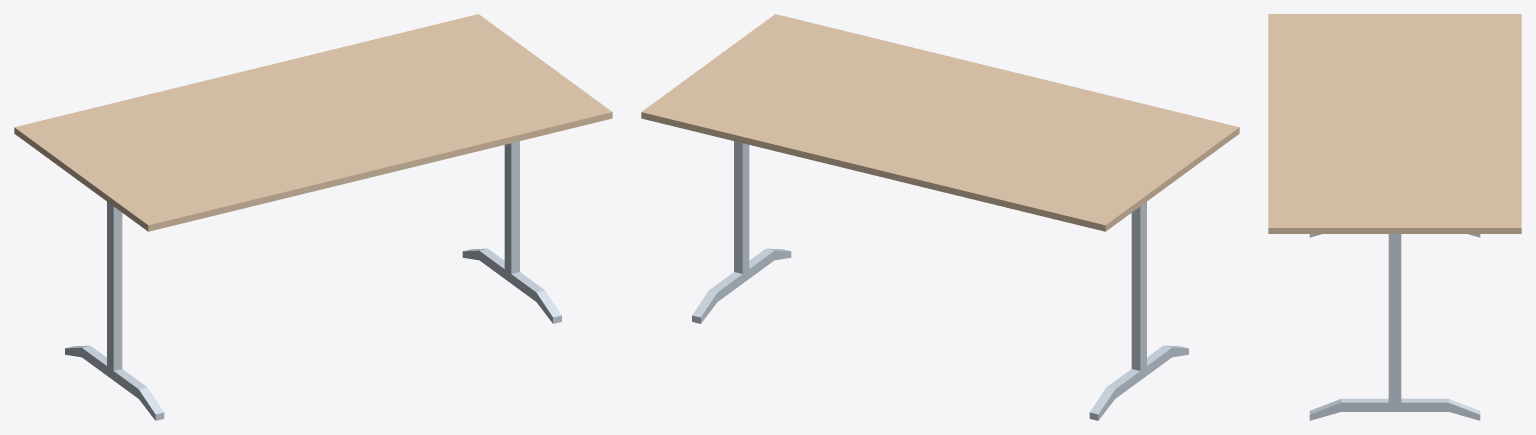
File: sweethome3d-contributions-desk-393.glb
3 renders of one model, left to right at view 1: azimuth 30°, elevation 25°; view 2: azimuth 150°, elevation 25°; view 3: azimuth 270°, elevation 25°, orthographic. The views are drawn at different scales.
Parts seen in each view (by area): view 1: 4_4, 7_7, 3_3; view 2: 4_4, 7_7, 3_3; view 3: 4_4, 3_3.
Part boxes in pixels (x1,y1,x2,y2): 4_4: (14,14,612,231); 7_7: (65,202,164,420); 3_3: (462,141,561,323); 4_4: (641,14,1239,231); 7_7: (1089,202,1188,420); 3_3: (692,141,791,323); 4_4: (1268,14,1521,233); 3_3: (1309,234,1480,420).
Size of the model in its own units: 160 by 72 by 80.
